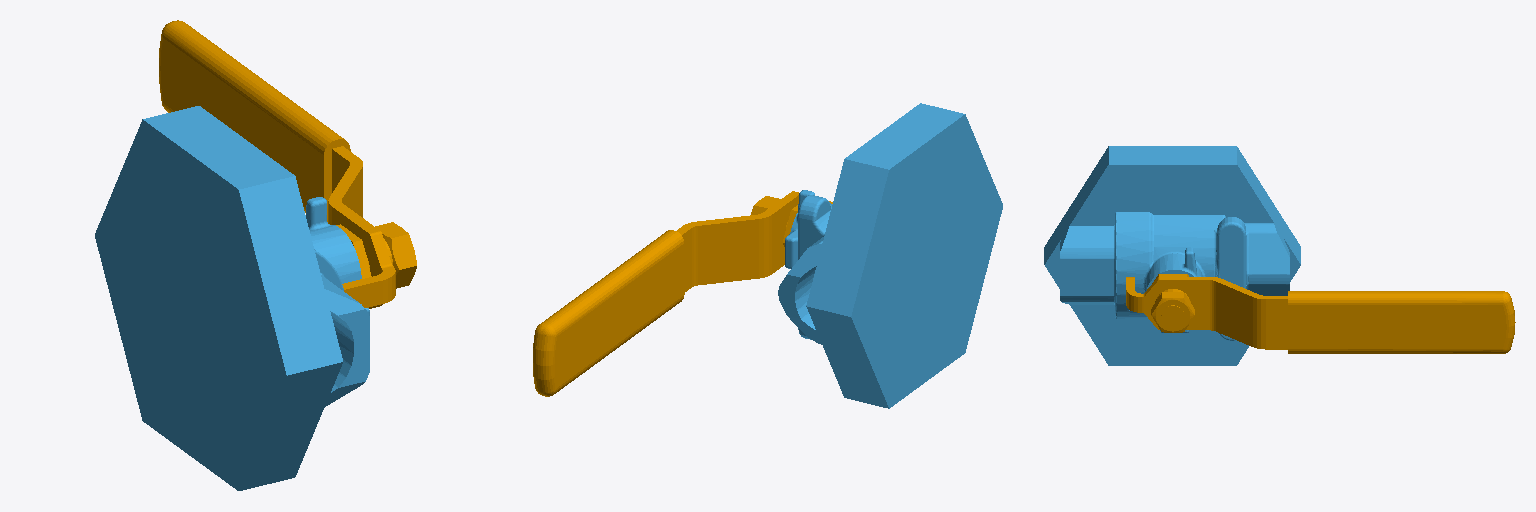
URDF robot description (Ball_Valve):
<?xml version="1.0" encoding="UTF-8"?>
<robot name="Ball_Valve">
  <joint name="RevoluteJoint" type="revolute">
    <origin xyz="0. 0. 0." rpy="0. 0. 0."/>
    <parent link="valvula_esfera"/>
    <child link="alavanca_pivot"/>
    <axis xyz="1. 0. 0."/>
    <limit lower="-1.5707963" upper="0." effort="10000000." velocity="0."/>
  </joint>
  <link name="alavanca_pivot">
    <visual>
      <origin xyz="-0.0468898 0.0175836 -0.0114654" rpy="1.5707964 -0. 1.5707964"/>
      <geometry>
        <mesh filename="meshes/Mesh_1.obj" scale="1. 1. 1."/>
      </geometry>
    </visual>
    <collision>
      <origin xyz="-0.0468898 0.0175836 -0.0114654" rpy="1.5707964 -0. 1.5707964"/>
      <geometry>
        <mesh filename="meshes/Mesh_1.obj" scale="1. 1. 1."/>
      </geometry>
    </collision>
  </link>
  <link name="valvula_esfera">
    <visual>
      <origin xyz="-0.0400277 0. 0. " rpy="1.5707964 0. 1.5707964"/>
      <geometry>
        <mesh filename="meshes/Mesh.obj" scale="1. 1. 1."/>
      </geometry>
    </visual>
    <collision>
      <origin xyz="-0.0400277 0. 0. " rpy="1.5707964 0. 1.5707964"/>
      <geometry>
        <mesh filename="meshes/Mesh.obj" scale="1. 1. 1."/>
      </geometry>
    </collision>
  </link>
</robot>

--- What the picture shows (computed from the rendered views, not written in the file) ---
3 views of the same robot in one strip: view 1: azimuth 30°, elevation 25°; view 2: azimuth 150°, elevation 25°; view 3: azimuth 270°, elevation 25° (orthographic).
Model Ball_Valve with 2 links and 1 joints (1 revolute), rooted at valvula_esfera, posed every joint at zero.
Visible links, largest first — view 1: valvula_esfera, alavanca_pivot; view 2: valvula_esfera, alavanca_pivot; view 3: valvula_esfera, alavanca_pivot.
Link boxes in pixels (x1=…): valvula_esfera: x1=95, y1=106, x2=369, y2=490; alavanca_pivot: x1=159, y1=20, x2=416, y2=308; valvula_esfera: x1=778, y1=103, x2=1002, y2=408; alavanca_pivot: x1=533, y1=191, x2=832, y2=396; valvula_esfera: x1=1044, y1=146, x2=1300, y2=365; alavanca_pivot: x1=1126, y1=274, x2=1515, y2=353.
Size in the robot's own frame: 0.0652 by 0.1617 by 0.0763 metres.
2 mesh visuals loaded from 2 distinct referenced files (2 OBJ).
